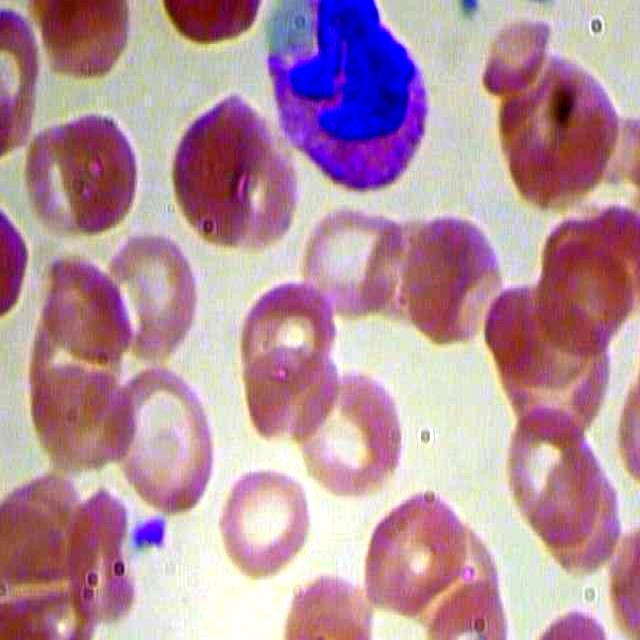RBC: (106, 358, 215, 518), (285, 371, 405, 501), (294, 193, 403, 335), (361, 480, 470, 621), (28, 340, 137, 481), (403, 207, 507, 349), (103, 227, 204, 368), (52, 104, 150, 241), (504, 404, 602, 541), (209, 463, 313, 581), (34, 1, 143, 83)
